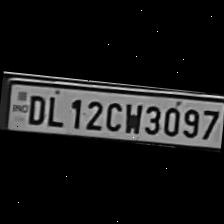0: (160, 103, 182, 137)
1: (64, 94, 84, 130)
2: (81, 96, 104, 132)
3: (140, 102, 162, 136)
7: (197, 106, 220, 142)
9: (178, 104, 201, 138)
C: (102, 98, 124, 132)
D: (23, 92, 47, 126)
L: (42, 92, 66, 128)
W: (120, 99, 143, 135)
